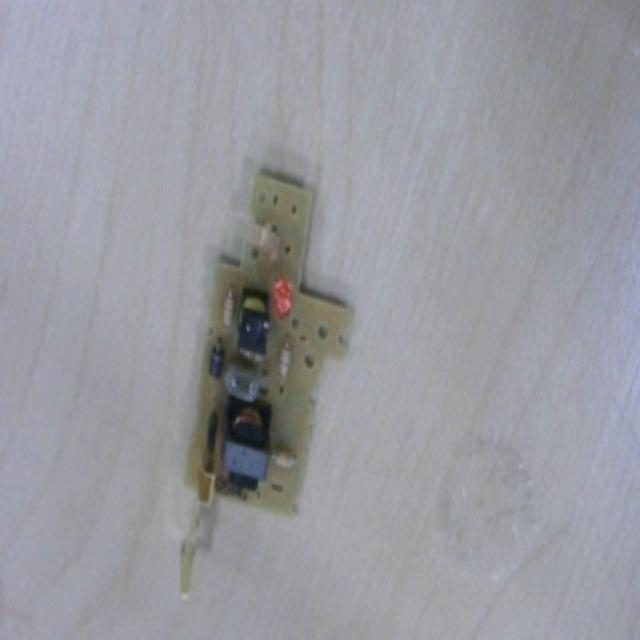019: (237, 284, 270, 353)
223: (225, 355, 259, 406)
DIODE: (221, 396, 272, 483), (206, 337, 224, 379)
LED: (272, 275, 292, 320)
R1: (279, 332, 291, 382)
R2: (238, 344, 266, 364)
R3: (222, 280, 236, 330)
R4: (274, 444, 297, 472)
TRANSISTOR: (205, 401, 220, 459)
